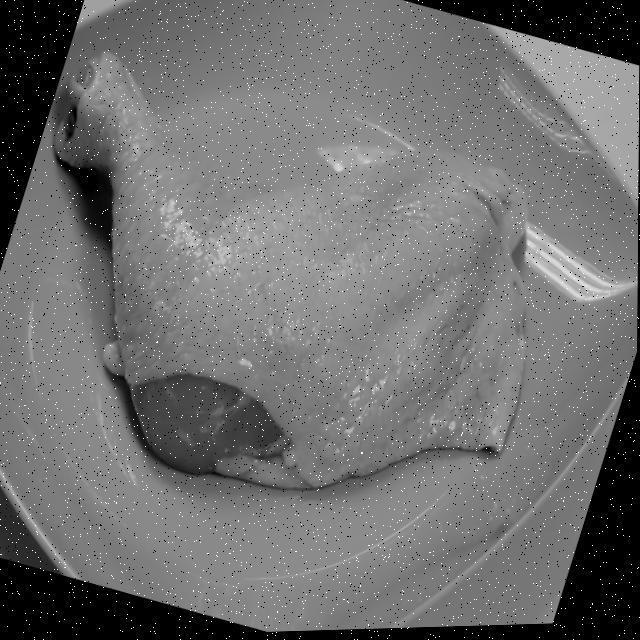quater: (71, 49, 504, 473)
